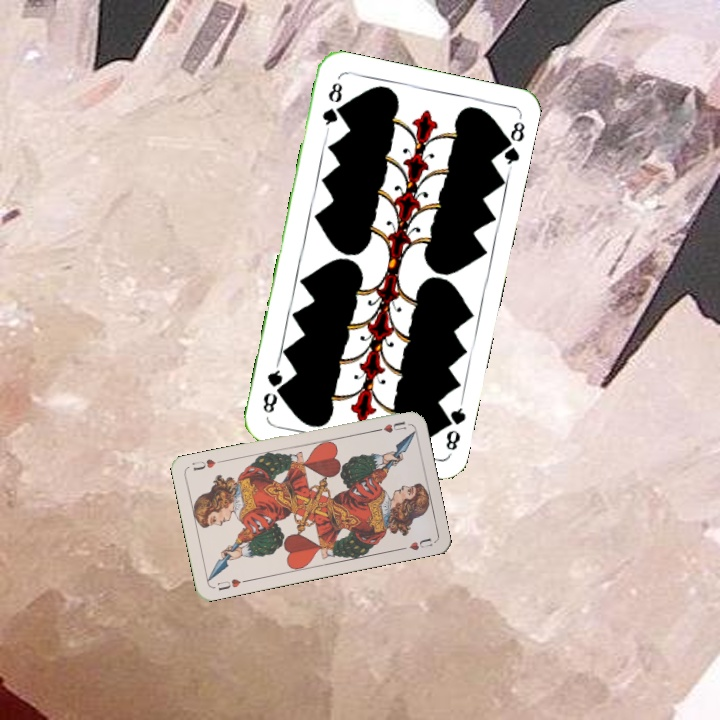G8: (438, 397, 469, 456), (318, 78, 345, 128)
HU: (370, 417, 409, 435), (213, 575, 250, 593)
